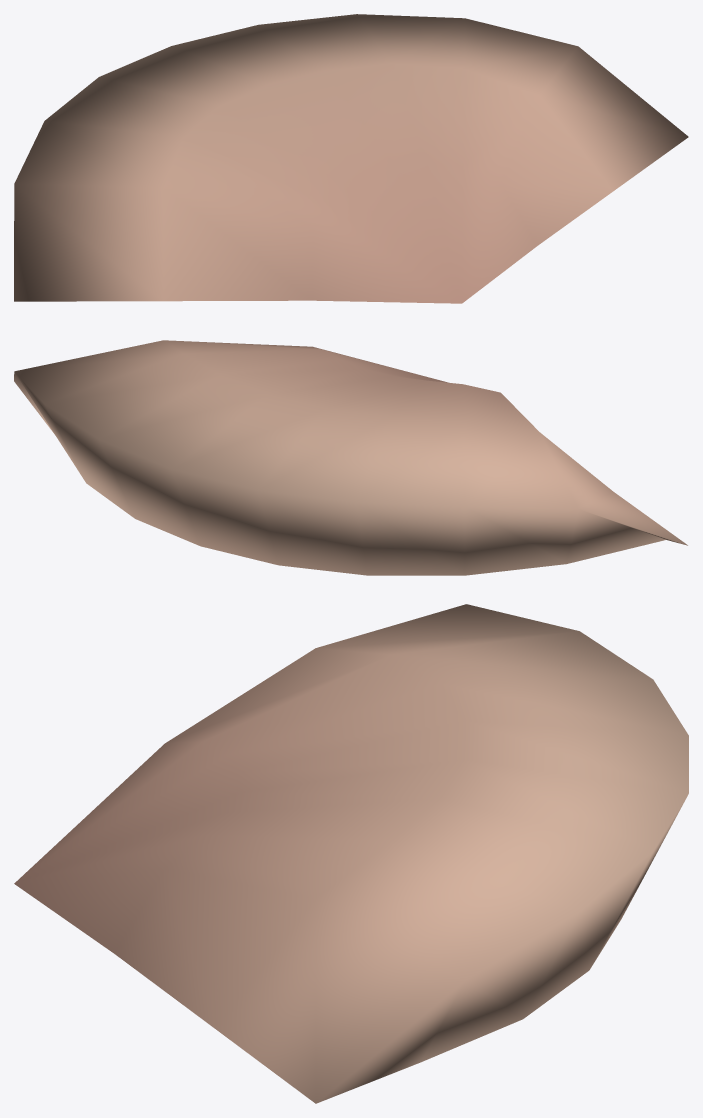
The model's file is node-shell-low.glb.
3 views of the same model, one above another, from view 1: azimuth 30°, elevation 25°; view 2: azimuth 150°, elevation 25°; view 3: azimuth 270°, elevation 25° (orthographic). The views are drawn at different scales.
Parts seen in each view (by area): view 1: 0_shell; view 2: 0_shell; view 3: 0_shell.
Part boxes in pixels (left/top/right/bottom): 0_shell: left=14, top=14, right=688, bottom=303; 0_shell: left=14, top=340, right=687, bottom=575; 0_shell: left=14, top=604, right=688, bottom=1103.
Size of the model in its own units: 0.4716 by 0.0748 by 0.2992.
